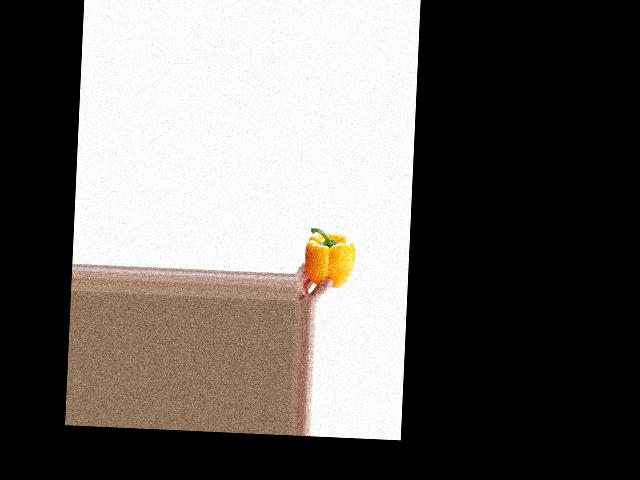bell_pepper: (304, 224, 357, 290)
